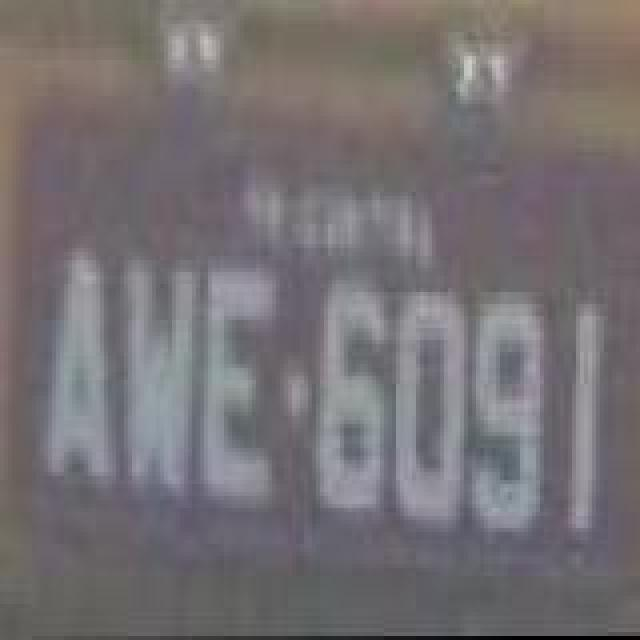1: (570, 306, 598, 534)
6: (316, 280, 388, 516)
9: (476, 294, 548, 542)
A: (40, 250, 120, 486)
E: (200, 262, 272, 502)
O: (394, 282, 470, 530)
W: (124, 260, 196, 500)
